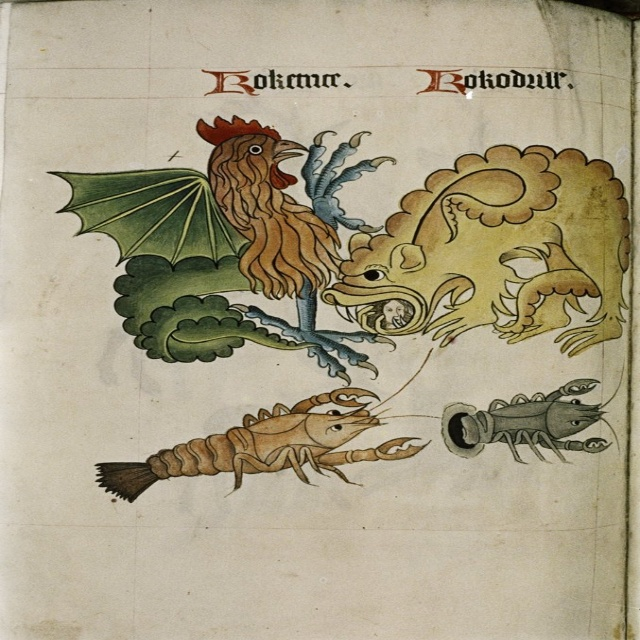Chicken: (184, 116, 344, 298)
